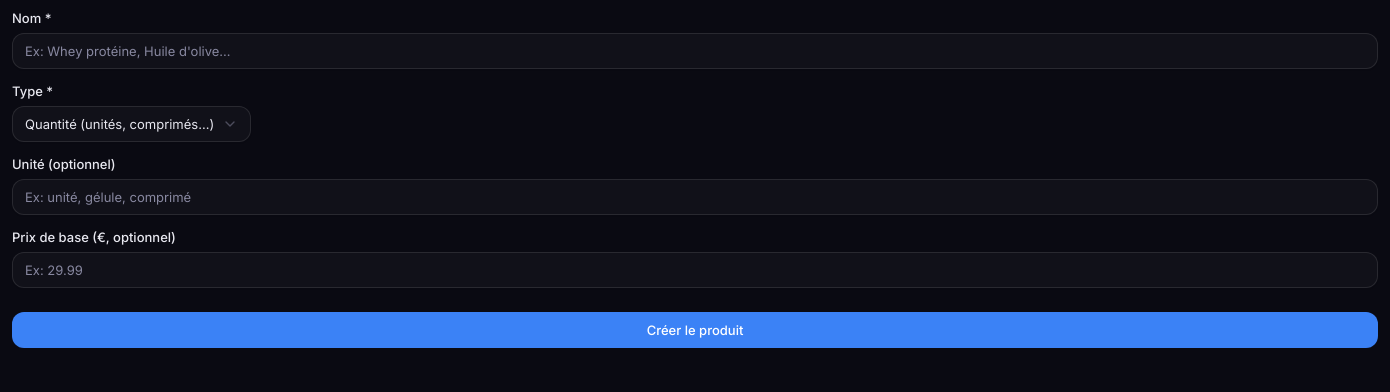
it: ProductForm › affiche une erreur si le nom est vide à la soumission
The width and height of the screenshot is (1390, 392).
Step 1. Click the button "Créer le produit" → {"x": 695, "y": 330}, box x1=12 y1=312 x2=1378 y2=348
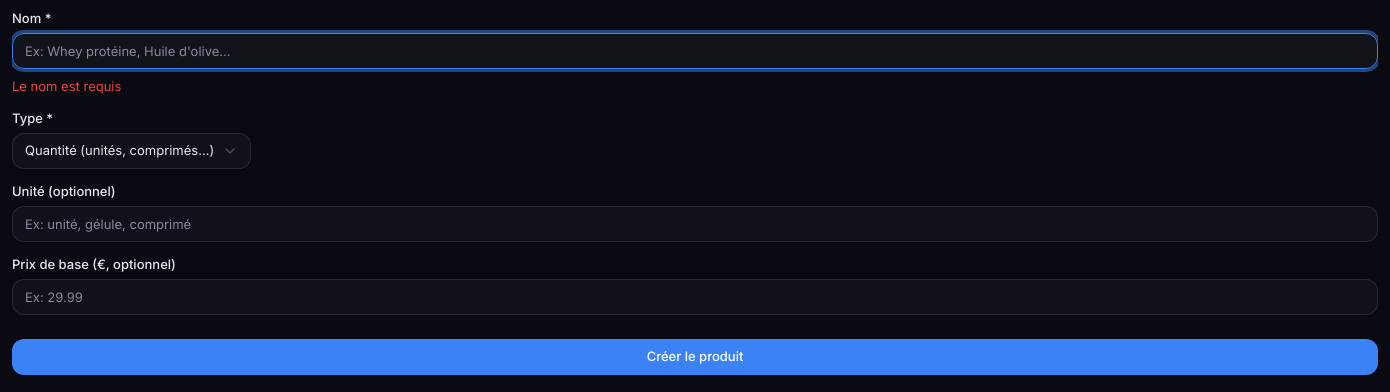
Check: the text "Le nom est requis" is shown, box x1=12 y1=78 x2=121 y2=94
